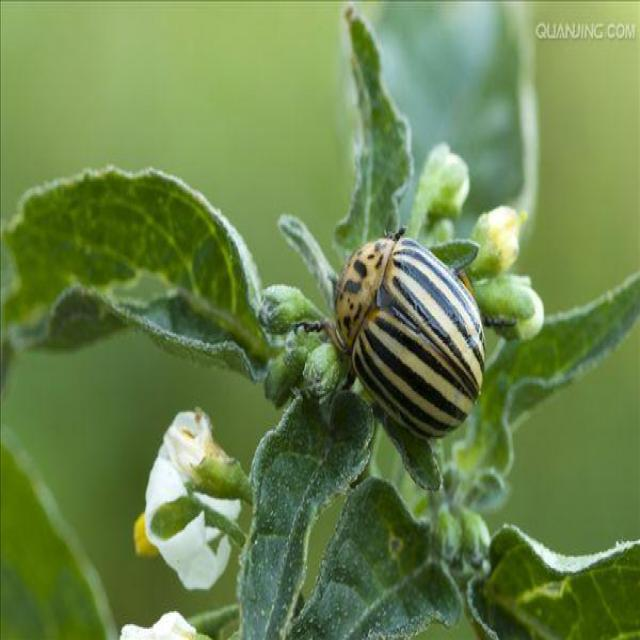ShuCaiHuaBanChong-Grown-: (312, 224, 492, 450)
